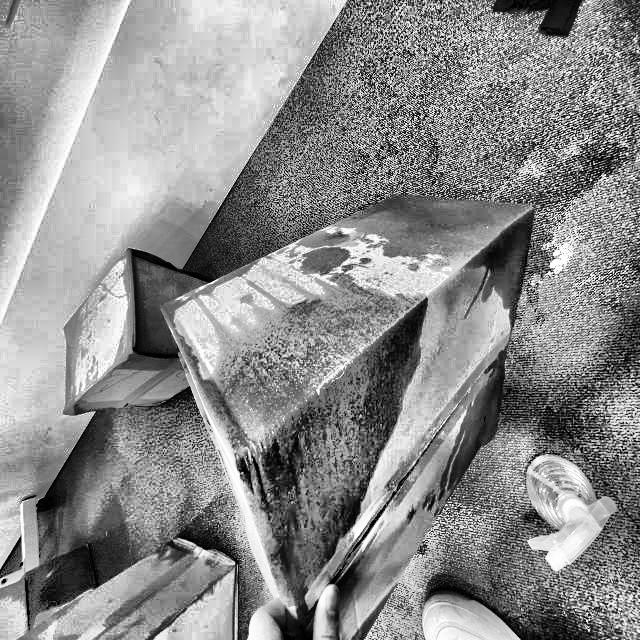box: (143, 185, 546, 628)
hole: (476, 0, 626, 43)
wet: (209, 280, 399, 538), (324, 176, 552, 262)
